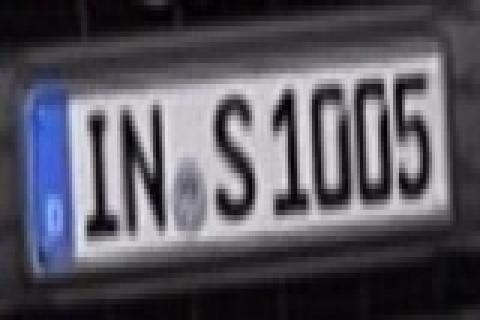LicensePlate: (19, 46, 462, 288)
